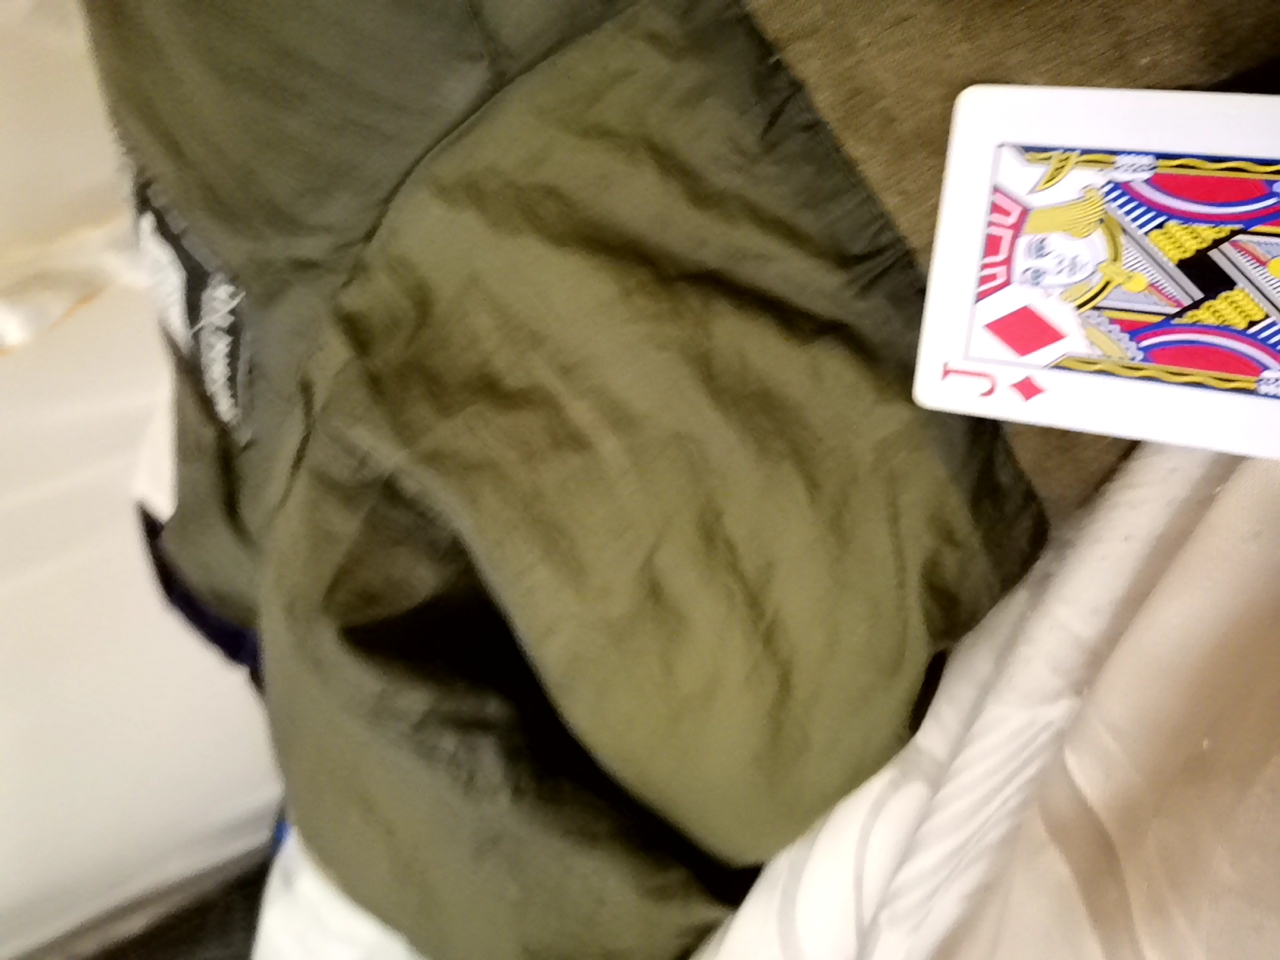fk j: (895, 94, 1280, 484)
